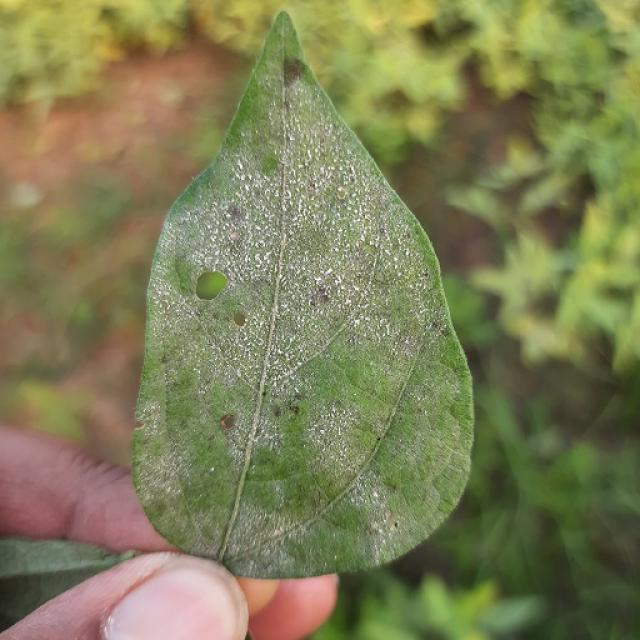Blackgram: (134, 16, 472, 576)
Powdery_Mildew: (222, 127, 378, 311), (309, 183, 422, 330), (193, 176, 280, 277), (270, 141, 362, 232), (248, 301, 327, 396), (194, 202, 281, 280), (288, 240, 364, 322), (298, 360, 364, 439), (135, 445, 186, 518), (325, 184, 382, 247), (344, 481, 396, 536), (359, 519, 399, 561), (266, 347, 300, 383), (348, 487, 370, 509), (278, 297, 293, 313), (297, 199, 306, 214), (282, 189, 292, 200), (236, 160, 244, 171), (324, 267, 333, 276), (335, 276, 343, 286), (314, 276, 323, 284), (307, 149, 313, 160), (372, 490, 379, 499), (288, 134, 295, 142), (277, 347, 284, 355), (353, 318, 361, 325), (352, 285, 360, 292), (293, 386, 300, 394), (198, 389, 206, 396), (337, 426, 342, 436), (319, 428, 326, 435), (393, 256, 399, 263), (210, 466, 215, 472)
